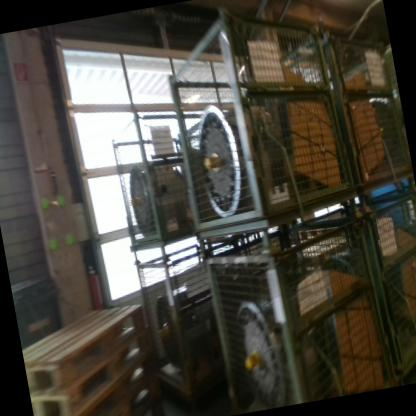pallet: (16, 287, 155, 396), (25, 329, 161, 416), (30, 359, 162, 416)
stillage: (156, 0, 361, 256), (197, 215, 398, 412), (268, 10, 415, 217), (288, 180, 416, 399), (131, 228, 273, 410), (104, 94, 242, 259)
